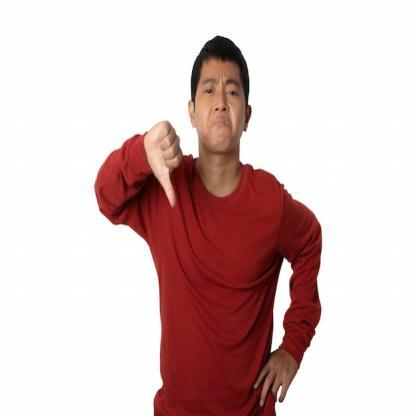thumb_down: (144, 118, 183, 210)
